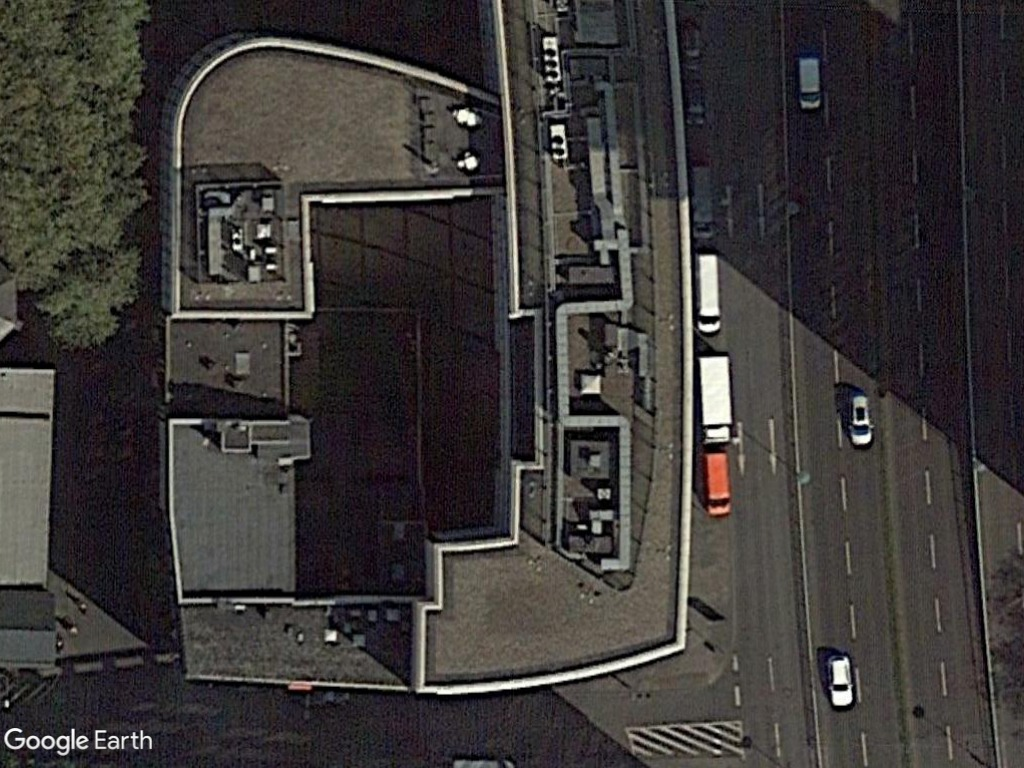car: (842, 387, 878, 452), (822, 647, 857, 713)
truck: (690, 348, 739, 453)
van: (686, 245, 728, 340), (695, 444, 735, 523), (786, 47, 826, 116)
